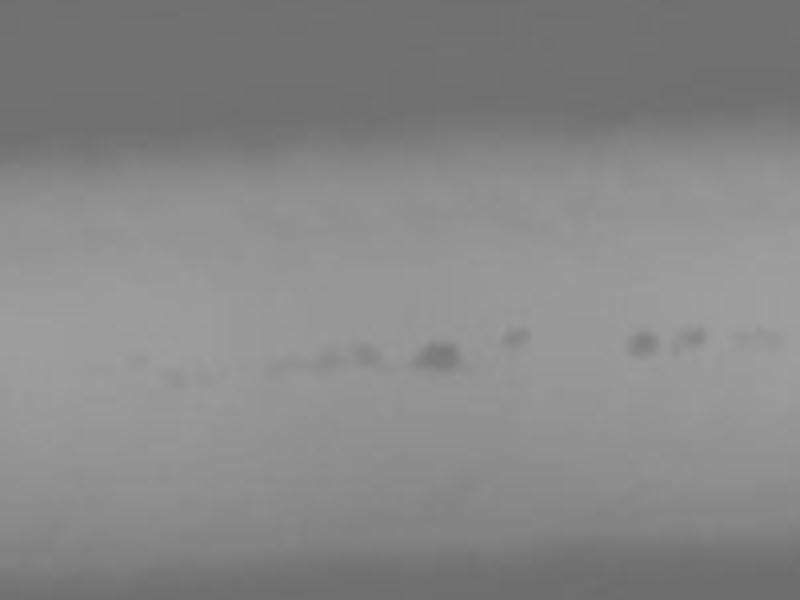defect: (412, 339, 456, 373), (348, 340, 385, 368), (626, 328, 660, 357), (261, 352, 302, 376), (674, 323, 709, 350), (306, 347, 343, 372), (160, 365, 189, 390), (502, 323, 532, 347), (127, 345, 153, 367)
